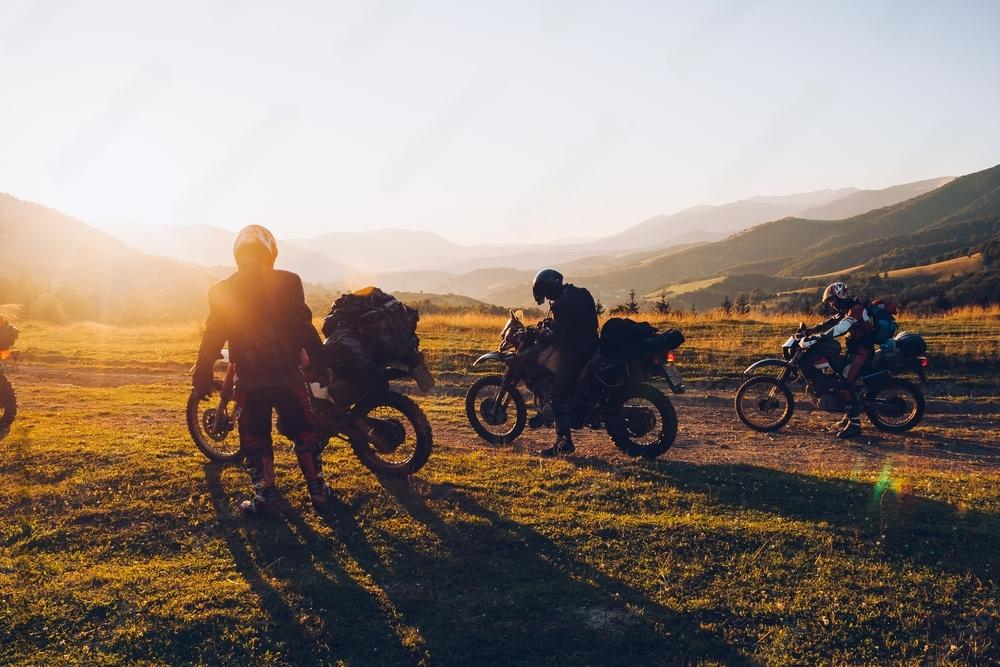helmet: (232, 223, 279, 272), (532, 267, 564, 305), (822, 281, 851, 312)
